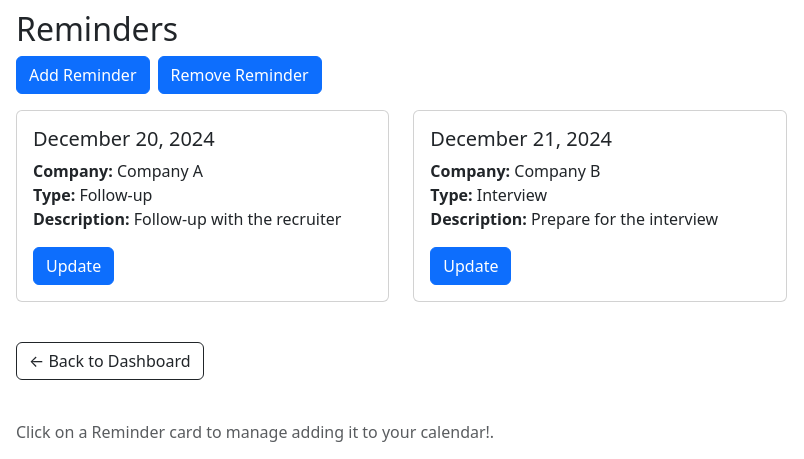
ReminderList › toggles delete mode when the remove reminder button is clicked
Click the button "Remove Reminder" at (240, 75), box 158,56 -> 322,94
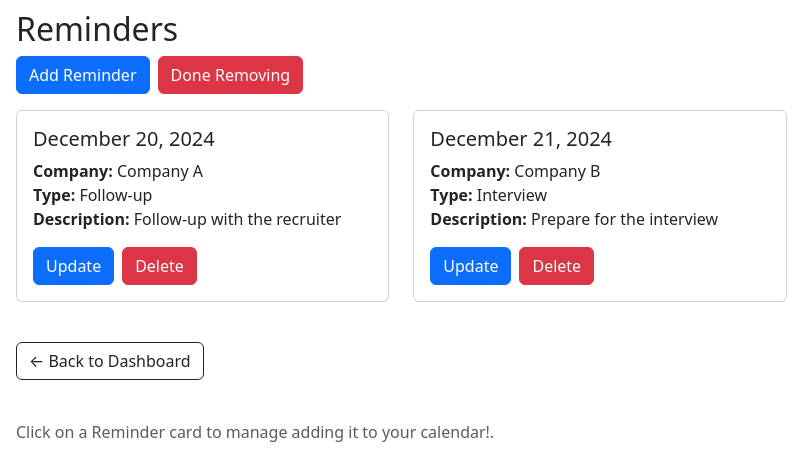
Expected: the button "Done Removing" is shown, 158,56 -> 303,94
